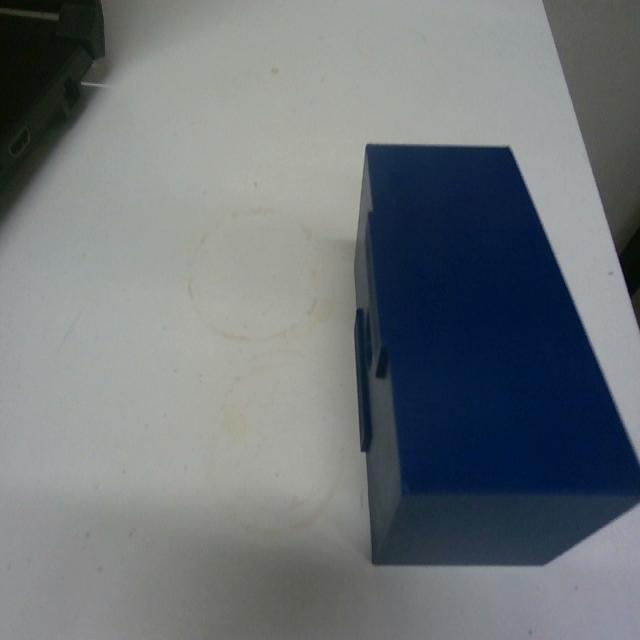Blue Cuboid: (350, 137, 638, 568)
